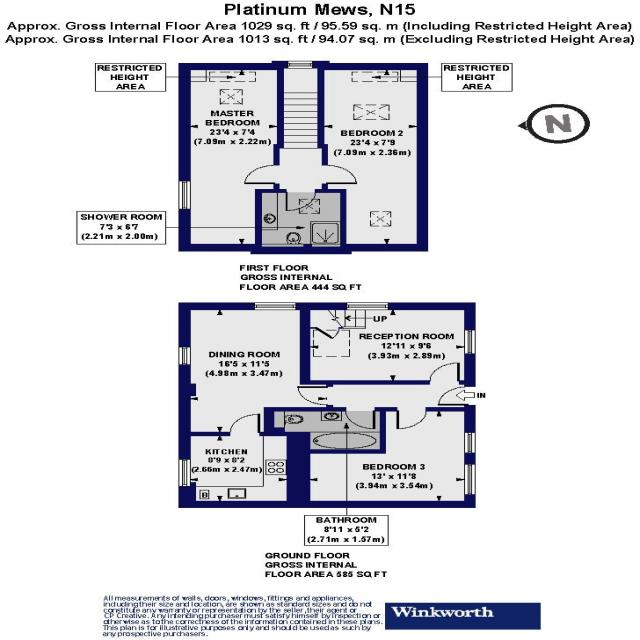DOOR: (295, 385, 334, 407), (428, 362, 461, 385), (322, 164, 358, 185), (229, 413, 261, 436), (243, 164, 279, 184), (395, 407, 427, 429), (345, 407, 375, 430)
ROOM: (317, 61, 429, 254), (179, 302, 334, 436), (179, 60, 284, 254), (287, 407, 476, 508), (300, 302, 476, 384), (178, 414, 309, 508)
WINDOW: (464, 463, 476, 496), (178, 180, 191, 210), (178, 458, 191, 487), (252, 302, 298, 310), (346, 302, 390, 310), (464, 329, 476, 354), (464, 432, 477, 454), (178, 346, 191, 366), (287, 61, 314, 69)
